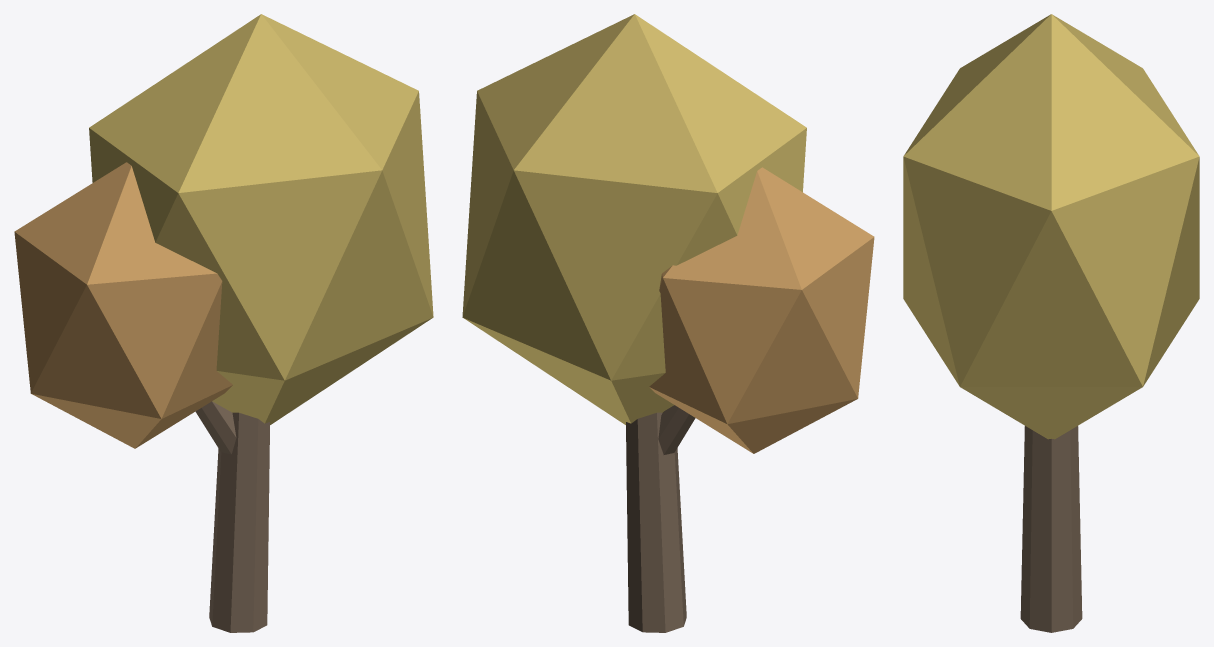
File: campus_tree_autumn_bare_v01.glb
The picture shows the model from 3 angles, left to right: view 1: azimuth 30°, elevation 25°; view 2: azimuth 150°, elevation 25°; view 3: azimuth 270°, elevation 25°; orthographic projection. The views are drawn at different scales.
Parts seen in each view (by area): view 1: campus_tree_autumn_bare; view 2: campus_tree_autumn_bare; view 3: campus_tree_autumn_bare.
Boxes of the visible parts, x1=… form: campus_tree_autumn_bare: x1=14, y1=14, x2=433, y2=632; campus_tree_autumn_bare: x1=462, y1=14, x2=874, y2=632; campus_tree_autumn_bare: x1=903, y1=14, x2=1199, y2=632.
Bounding box in the file's own units: 2.51 × 3.76 × 1.63.
1 material, 1 textured.
